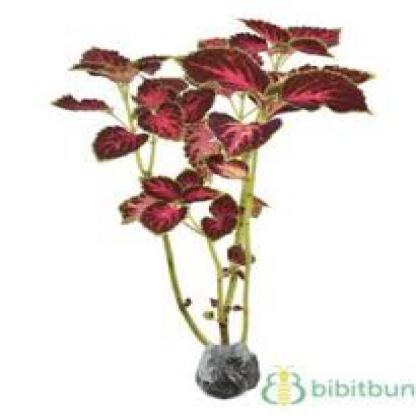Bunga Coleus: (46, 25, 385, 221)
